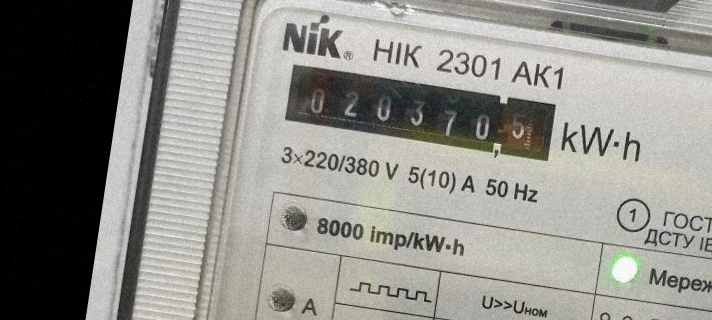0: (471, 110, 493, 143), (306, 84, 327, 115), (374, 92, 393, 122)
2: (340, 87, 362, 120)
3: (406, 96, 427, 128)
5: (507, 109, 530, 142)
7: (438, 107, 457, 138)
screen: (275, 56, 565, 172)
